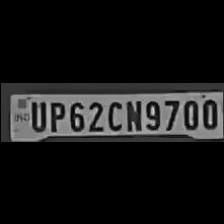0: (179, 97, 199, 129), (200, 96, 218, 128)
2: (84, 98, 104, 130)
6: (64, 99, 84, 131)
7: (160, 96, 180, 130)
9: (141, 96, 161, 130)
C: (104, 98, 122, 130)
N: (122, 97, 142, 130)
P: (46, 97, 64, 130)
U: (27, 98, 46, 130)
